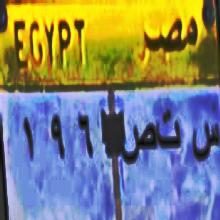1: (20, 108, 37, 166)
6: (76, 110, 95, 162)
9: (48, 103, 68, 167)
saad: (116, 109, 158, 165)
seen: (191, 104, 220, 170)
taa: (157, 106, 182, 152)
